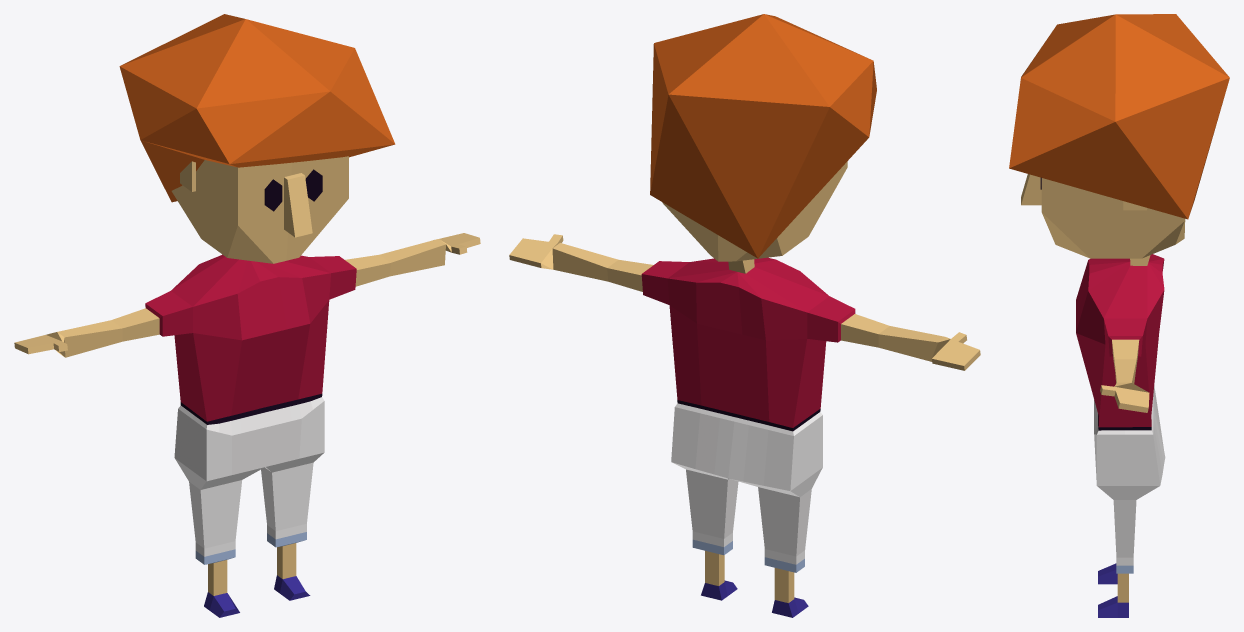
The model's file is pinatti.fbx.
3 renders of one model, left to right at view 1: azimuth 30°, elevation 25°; view 2: azimuth 150°, elevation 25°; view 3: azimuth 270°, elevation 25°, orthographic. The views are drawn at different scales.
Visible parts, largest first — view 1: pininha-static; view 2: pininha-static; view 3: pininha-static.
Boxes of the visible parts, x1,y1,x2,y2 form: pininha-static: (14,14,480,617); pininha-static: (509,14,980,617); pininha-static: (1009,14,1229,617).
Bounding box in the file's own units: 82.53 × 102 × 35.36.
1 material, 1 textured.
